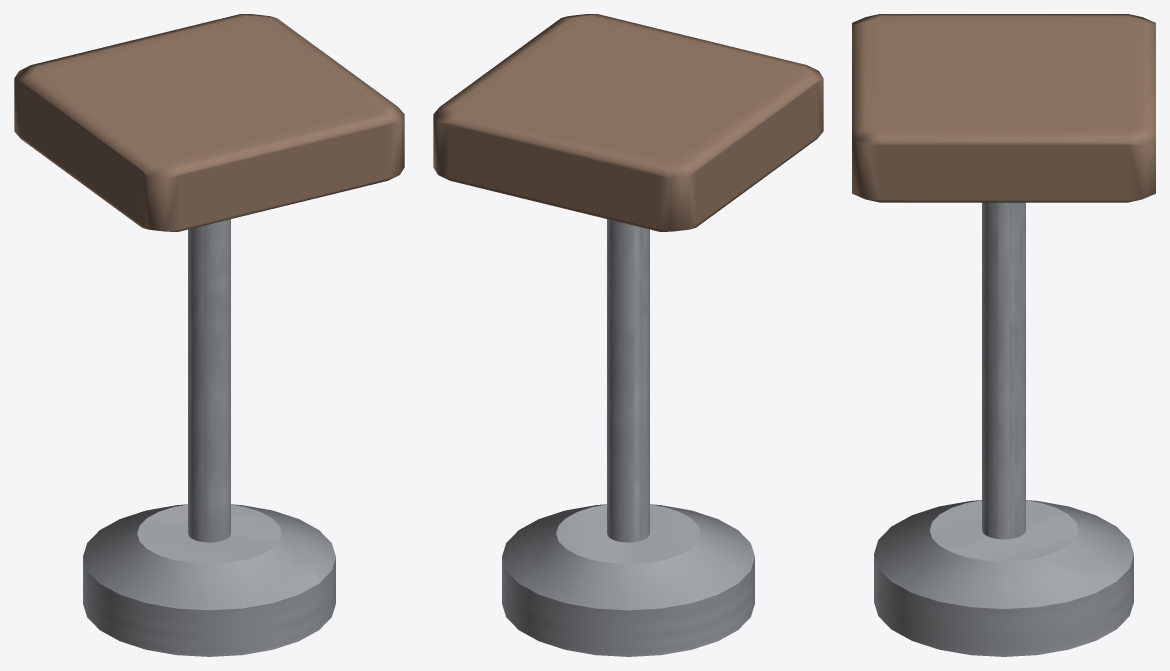
Rendered from Work Bar Stool SHC QuickOffice.fbx.
The picture shows the model from 3 angles, left to right: view 1: azimuth 30°, elevation 25°; view 2: azimuth 150°, elevation 25°; view 3: azimuth 270°, elevation 25°; orthographic projection. The views are drawn at different scales.
Parts seen in each view (by area): view 1: Component_142_1, Component_139_1; view 2: Component_142_1, Component_139_1; view 3: Component_142_1, Component_139_1.
Part boxes in pixels (x1,y1,x2,y2): Component_142_1: (14, 14, 404, 231); Component_139_1: (83, 219, 335, 656); Component_142_1: (433, 14, 823, 231); Component_139_1: (502, 219, 754, 656); Component_142_1: (852, 14, 1155, 202); Component_139_1: (874, 202, 1133, 656).
Size of what is drawn, in the model's own units: 0.34 by 0.6502 by 0.34.
